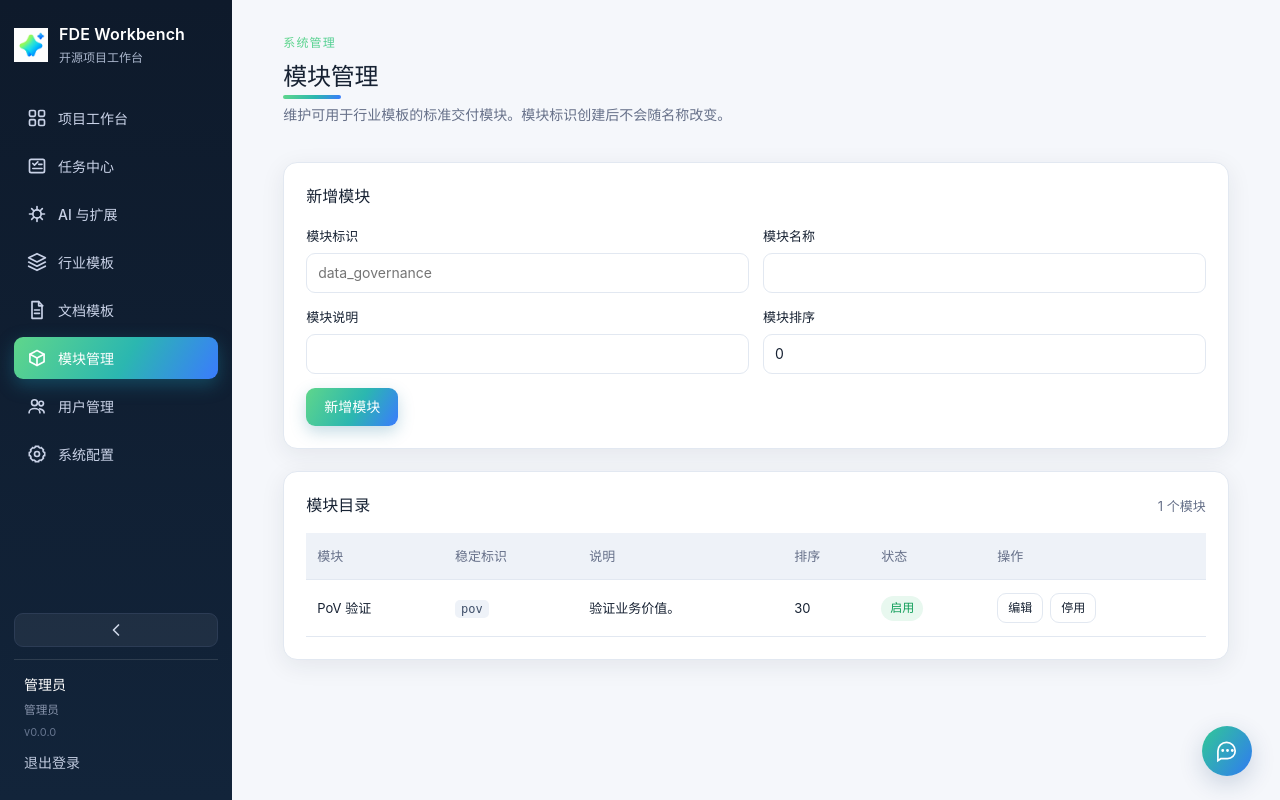
模块目录管理 › 过期编辑保留表单，由用户刷新版本后再重试
Click the button with aria-label "编辑 PoV 验证" at (1020, 608), box [997, 593, 1043, 623]
(page scrolled)
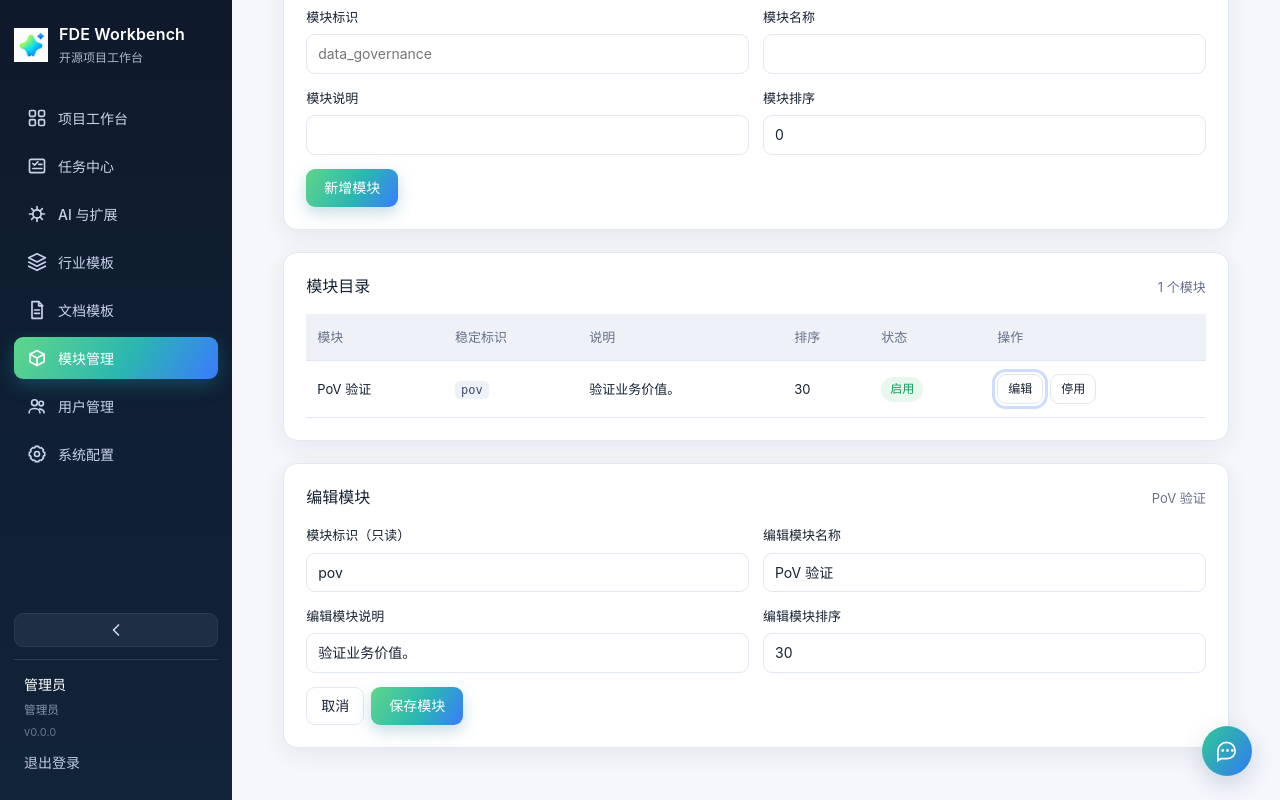
Replace the text in the field labelled "编辑模块名称" with "本地未保存名称" at (984, 572), box [763, 553, 1206, 592]
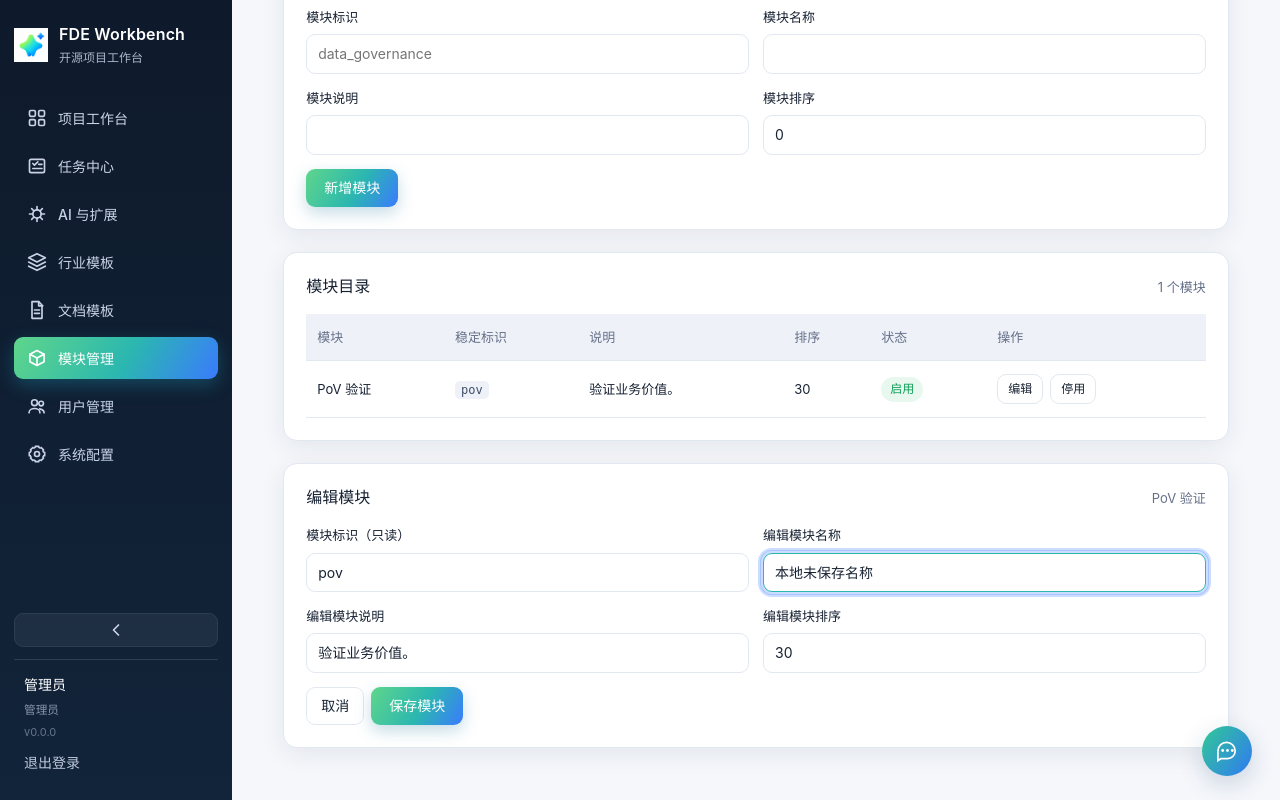
Click the button "保存模块" at (417, 706), box [371, 687, 463, 725]
(page scrolled)
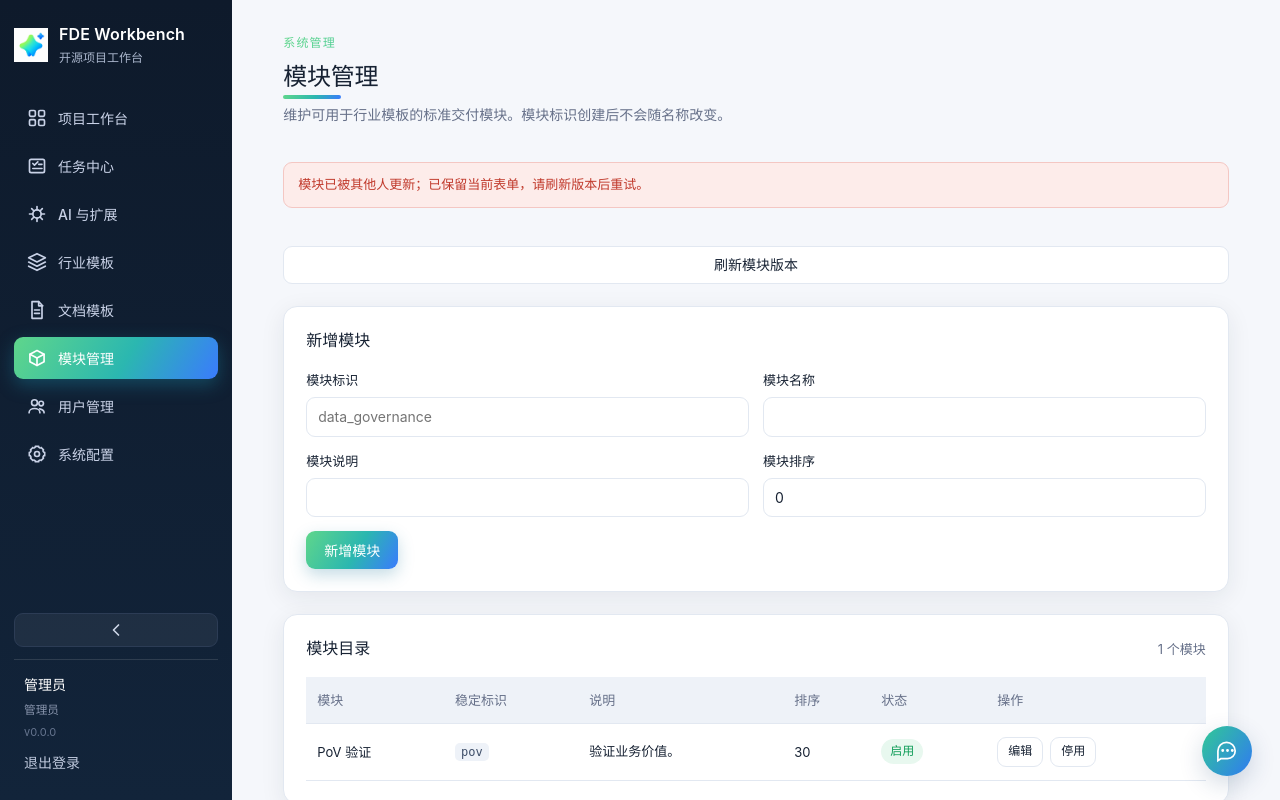
Expected: the message shows "模块已被其他人更新", [298, 176, 649, 192]
Click the button "刷新模块版本" at (756, 265), box [283, 246, 1229, 284]
(page scrolled)
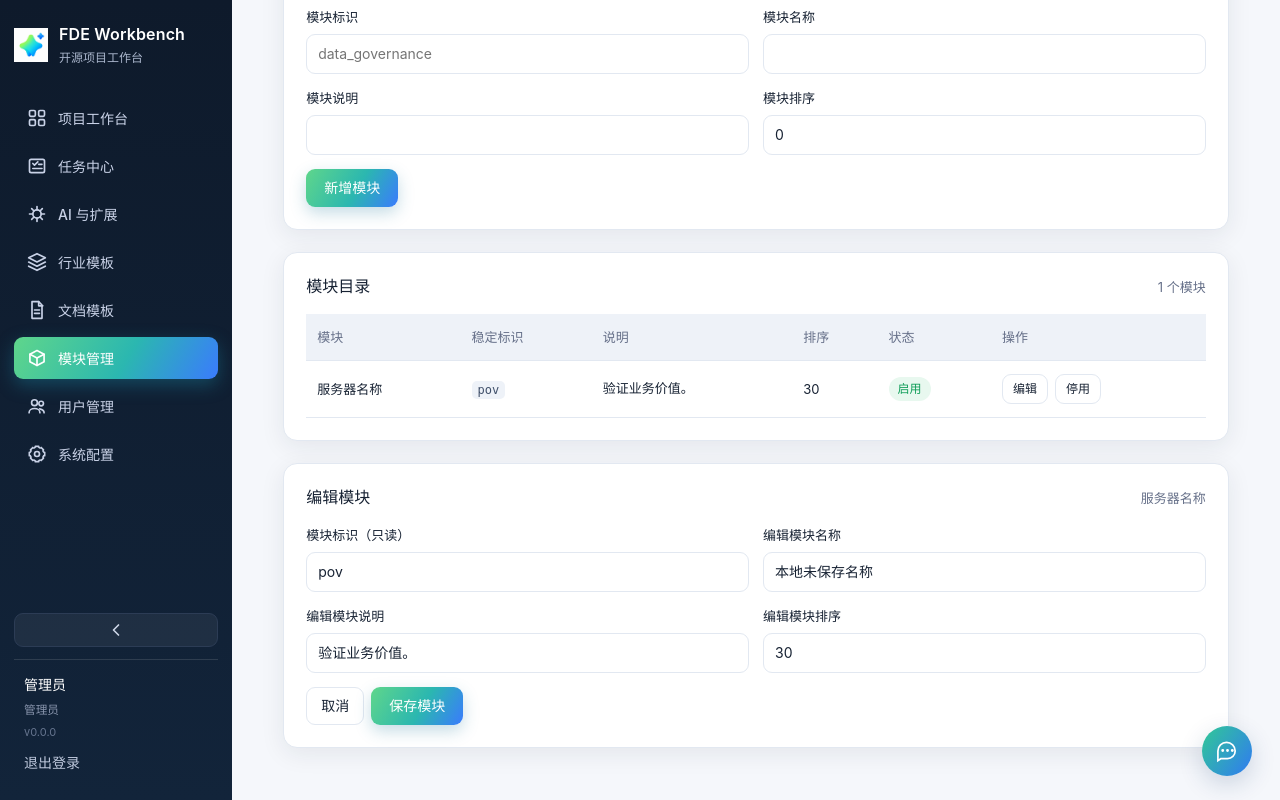
Click the button "保存模块" at (417, 706), box [371, 687, 463, 725]
(page scrolled)
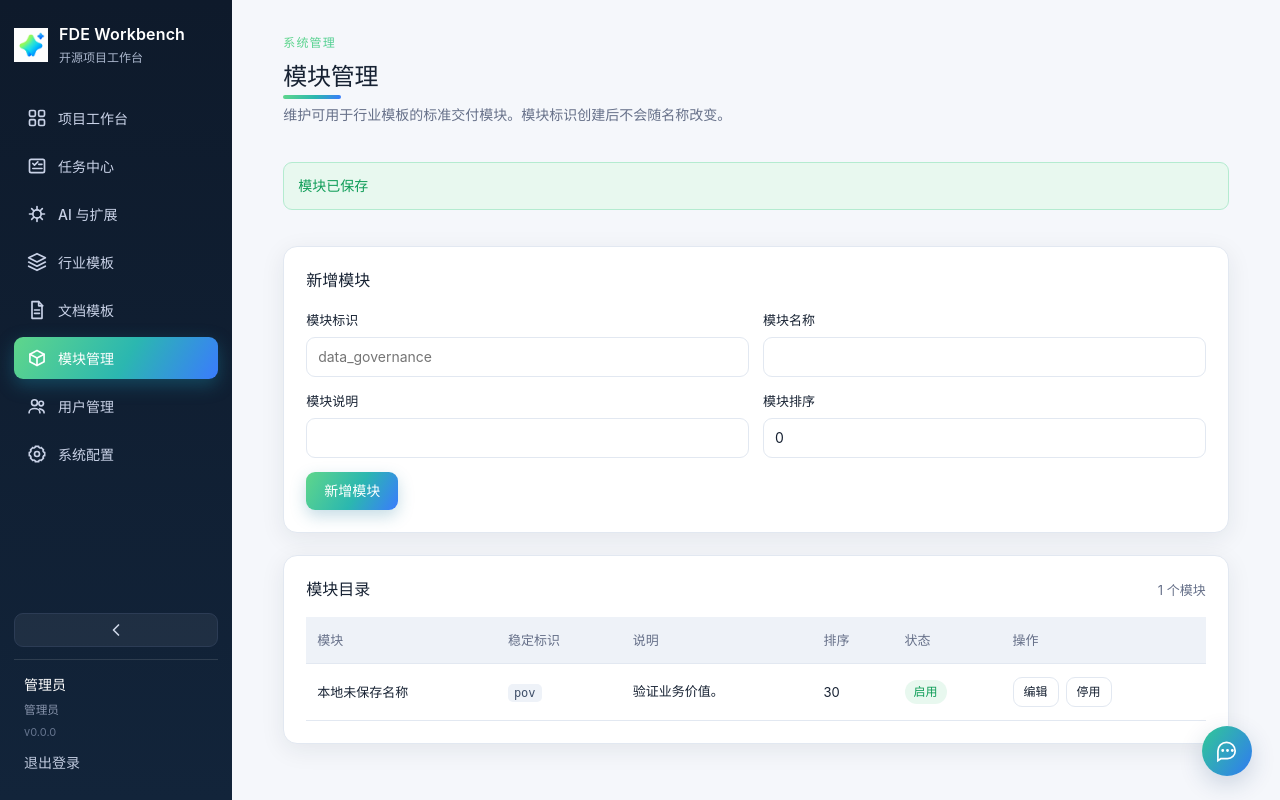
Expected: the text "模块已保存" is shown, [283, 162, 1229, 210]
